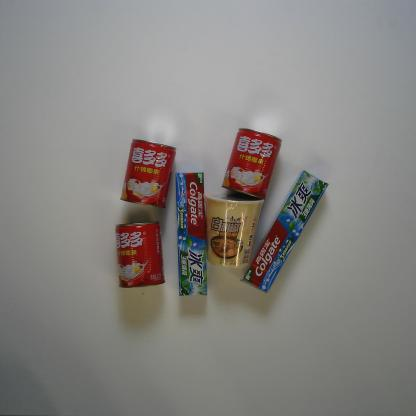Canned Food: (221, 127, 283, 201), (119, 137, 178, 209), (113, 219, 166, 290)
Instant Noodles: (202, 189, 266, 269)
Personal Hygiene: (239, 170, 330, 295), (174, 171, 208, 298)
